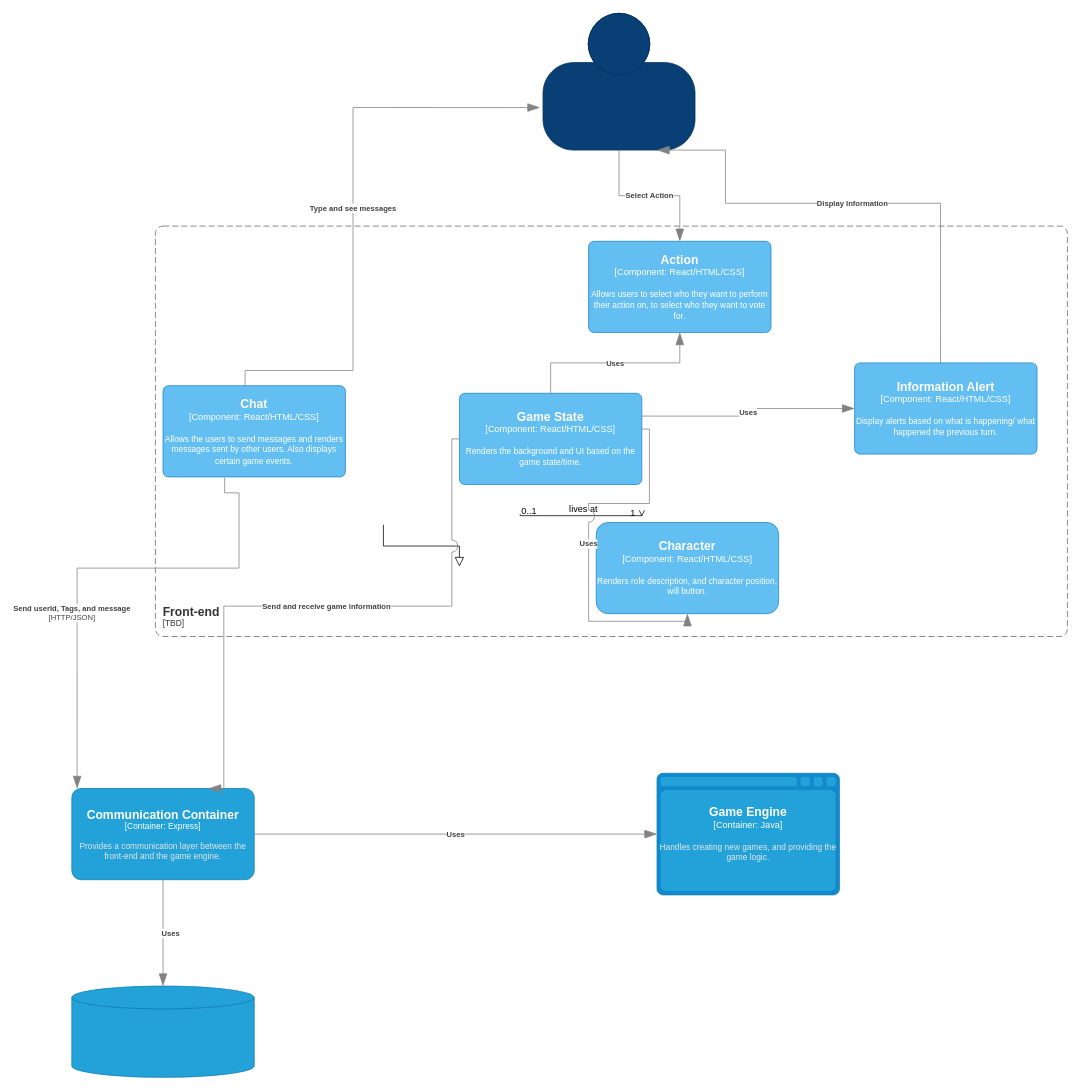
This 1081x1091 diagram has some shape labels left out. The shapes that lost their labels are listed below. From the top down, each one's centre as x and y in pixels, then its label:
At [618,81]: "User [Person] An user playing the game.".
At [162,1031]: "Container name [Database: MySQL] Database".
